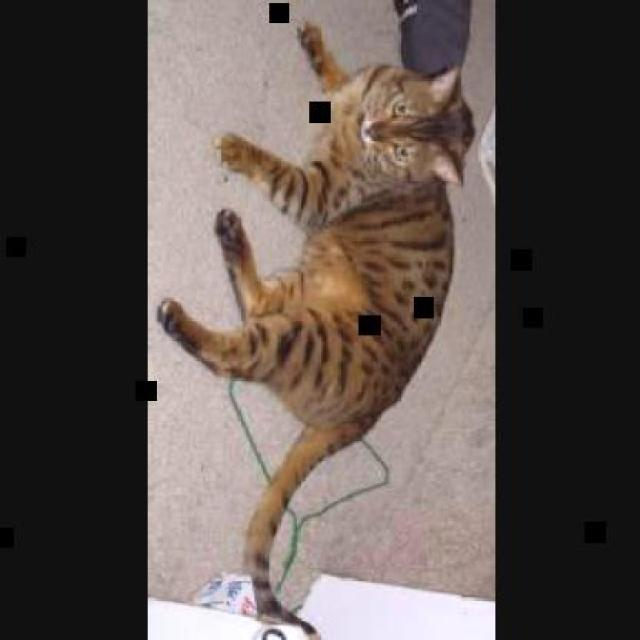unauthorized: (156, 20, 476, 635), (212, 18, 476, 230)
